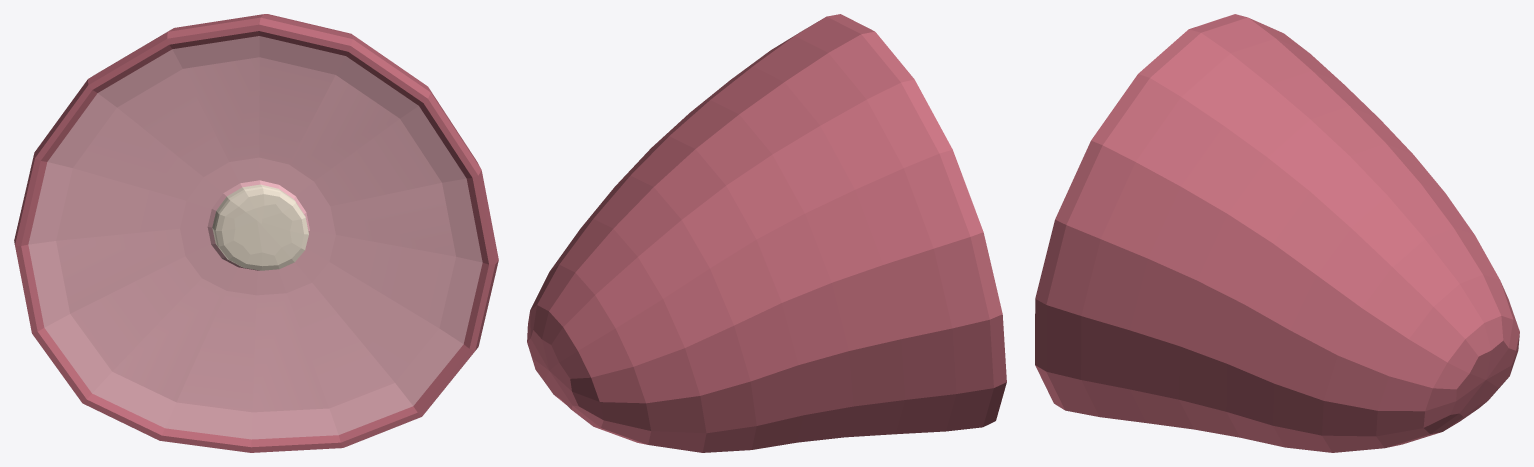
Rendered from Ham.fbx.
The picture shows the model from 3 angles, left to right: view 1: azimuth 30°, elevation 25°; view 2: azimuth 150°, elevation 25°; view 3: azimuth 270°, elevation 25°; orthographic projection. The views are drawn at different scales.
Visible parts, largest first — view 1: HAM; view 2: HAM; view 3: HAM.
Part boxes in pixels (x1,y1,x2,y2): HAM: [14, 14, 498, 452]; HAM: [527, 14, 1006, 452]; HAM: [1035, 14, 1519, 452].
Bounding box in the file's own units: 1.36 × 1.21 × 1.43.
